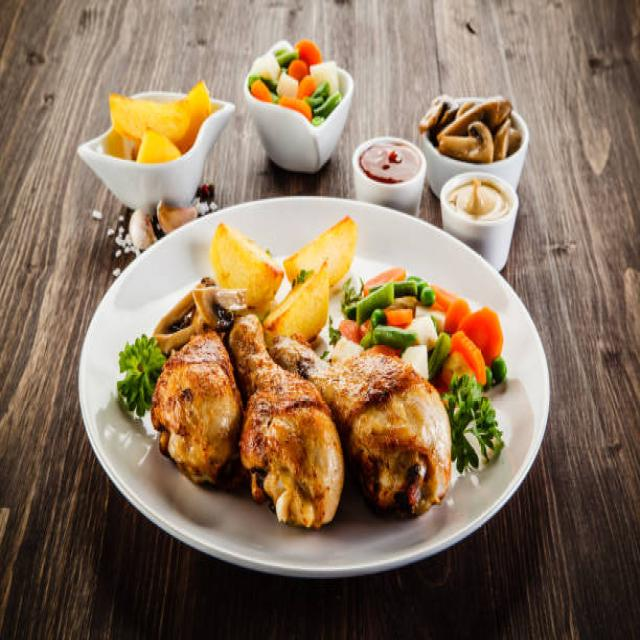Frango: (147, 281, 454, 538)
